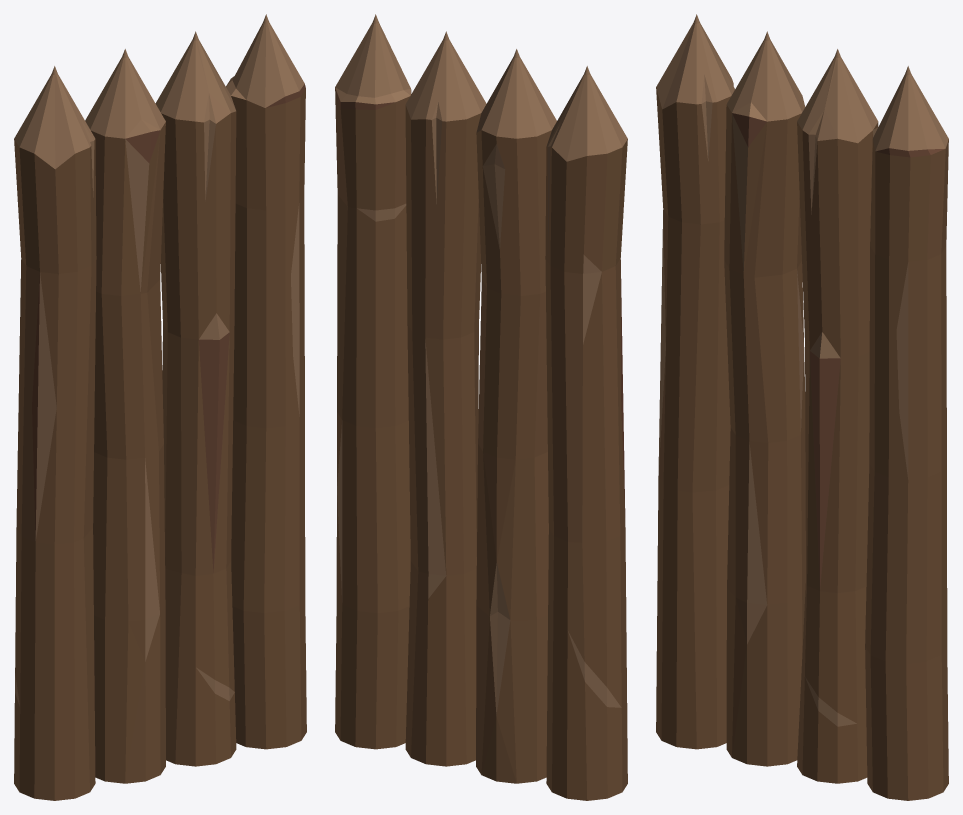
The model's file is mesh_wood_fence.fbx.
3 views of the same model, side by side, from view 1: azimuth 30°, elevation 25°; view 2: azimuth 150°, elevation 25°; view 3: azimuth 330°, elevation 25° (orthographic).
Parts seen in each view (by area): view 1: mesh_wood_fence; view 2: mesh_wood_fence; view 3: mesh_wood_fence.
Boxes of the visible parts, box(x1,y1,x2,y2) form: mesh_wood_fence: box(14, 14, 306, 800); mesh_wood_fence: box(335, 14, 627, 800); mesh_wood_fence: box(656, 14, 948, 800).
Size of the model in its own units: 0.8021 by 1.95 by 0.2093.
